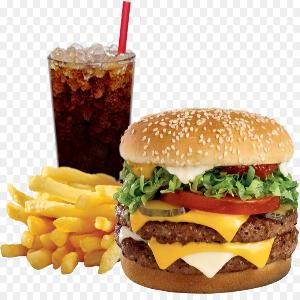cheeseburger: (117, 100, 300, 293)
fries: (6, 165, 123, 274)
